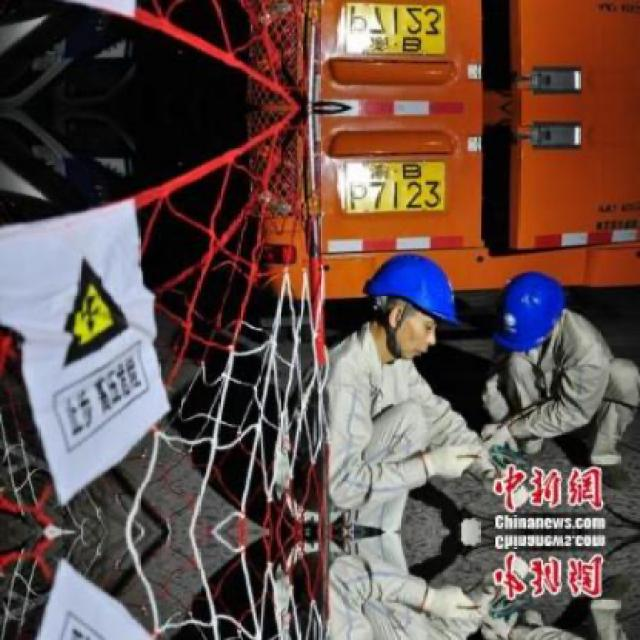helmet: (356, 245, 458, 370), (495, 268, 571, 368)
